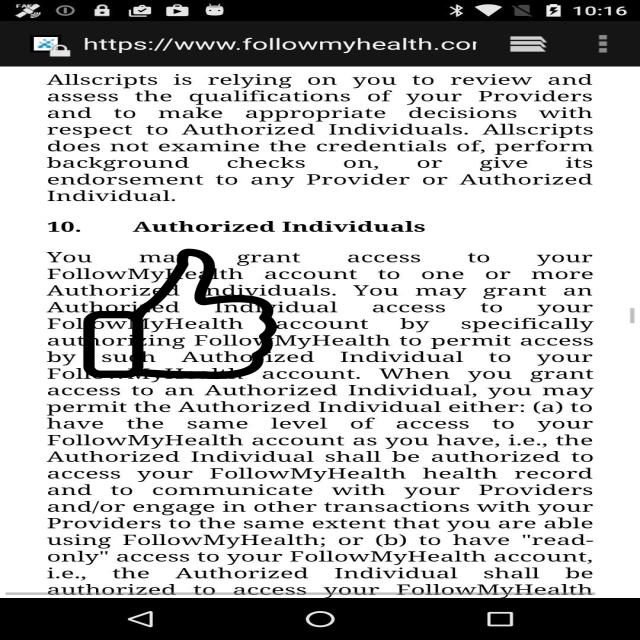privacy zuckering: (80, 249, 280, 379)
